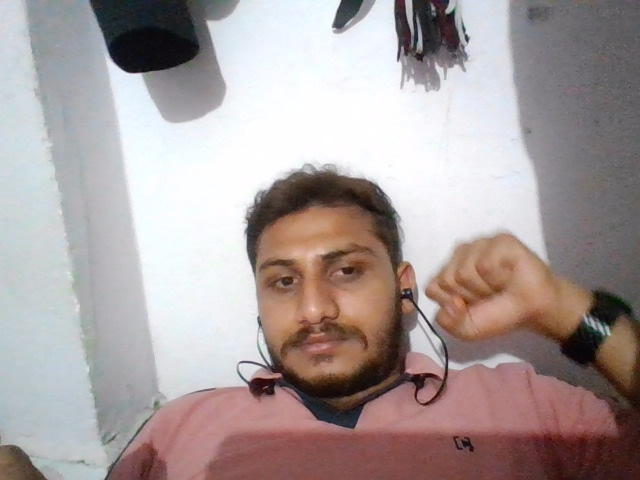Yes: (423, 231, 559, 337)
